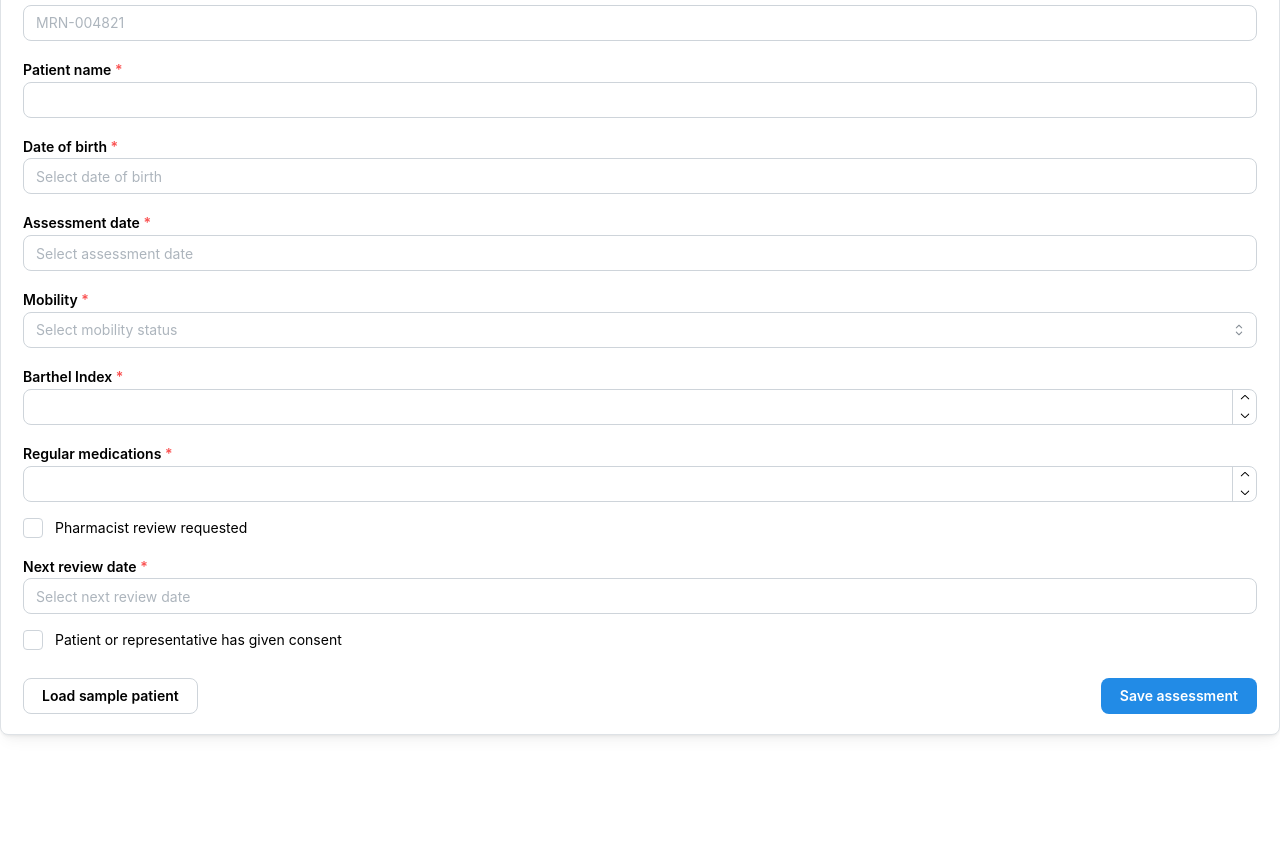
Test: AssessmentForm › saves the sample patient with the values Zod parsed
Click the button "Load sample patient" at (110, 696), box [23,678,198,714]
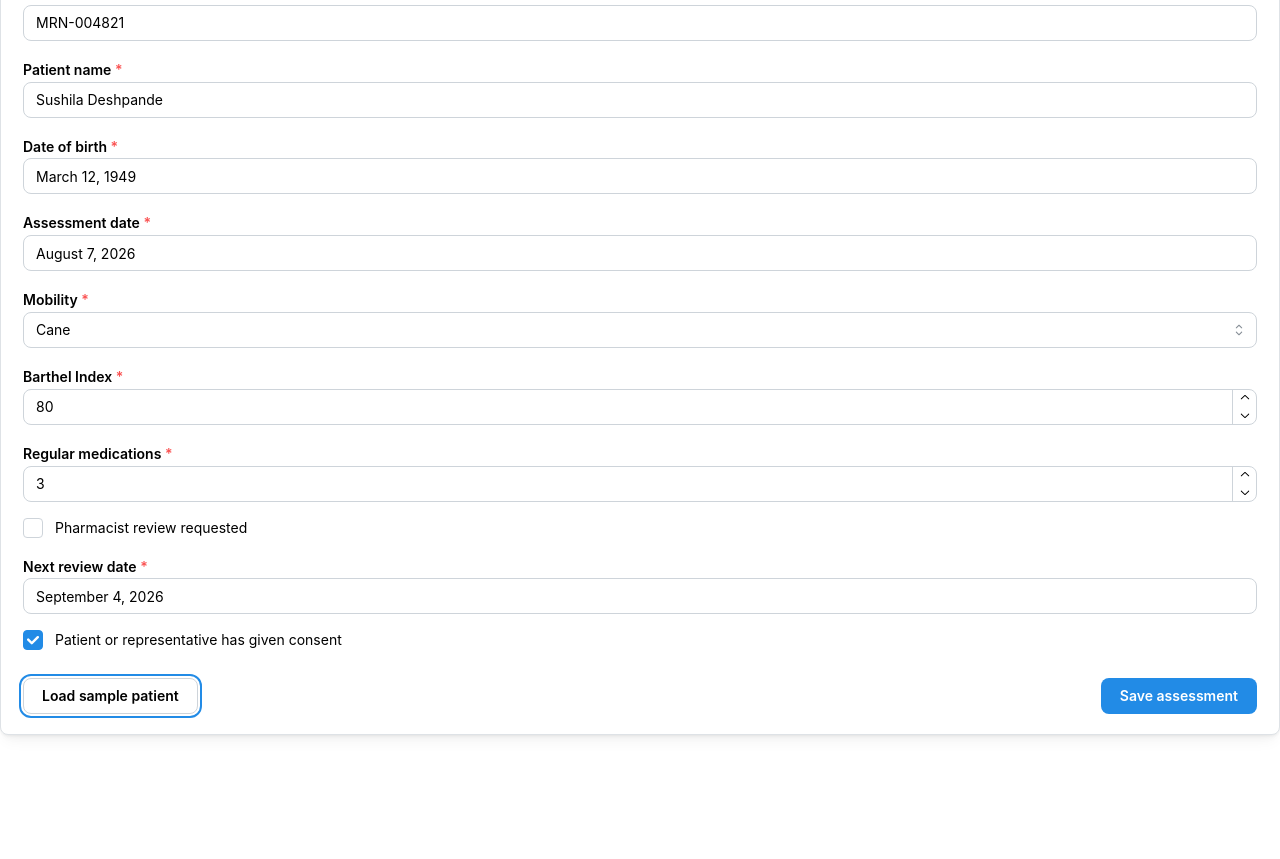
Click the button "Save assessment" at (1179, 696), box [1101,678,1257,714]
(page scrolled)
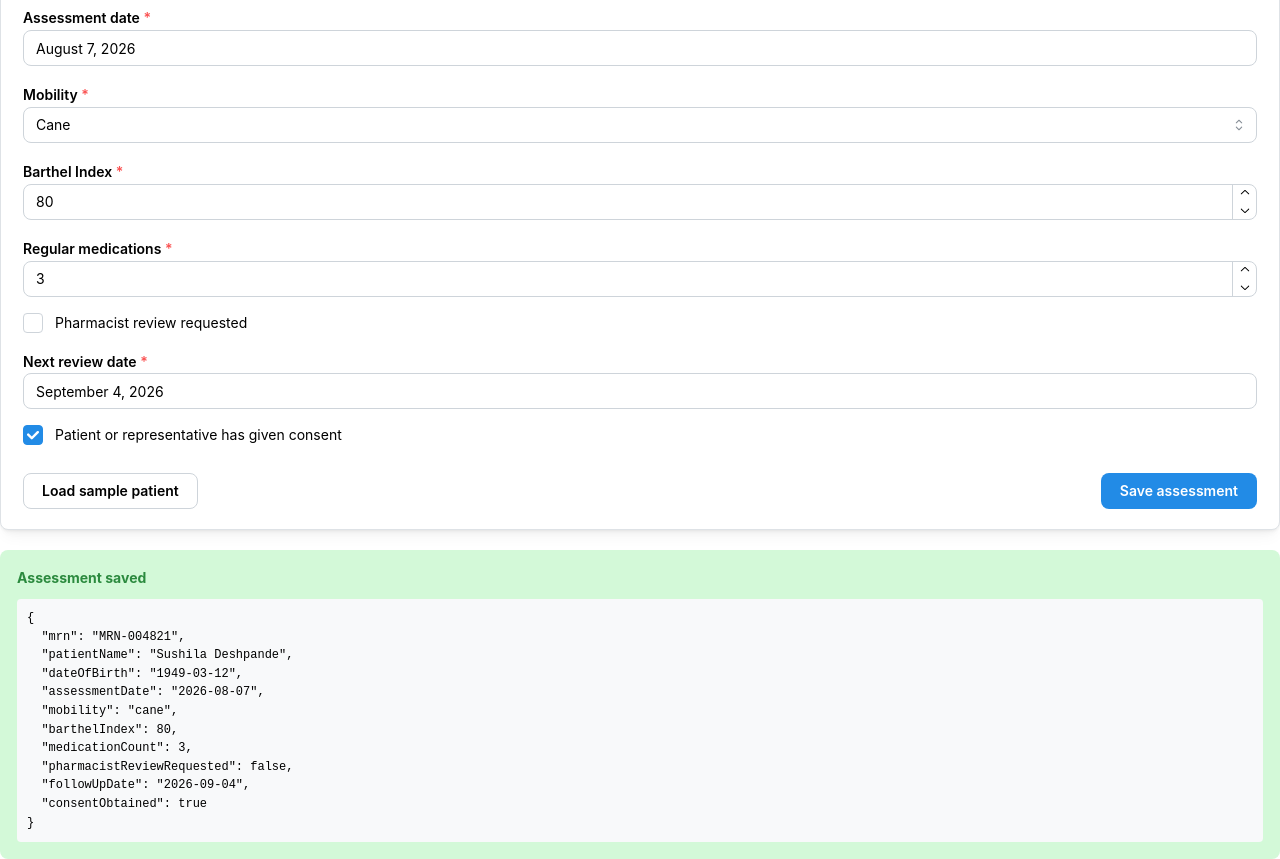
Check: the message shows "Assessment saved", box [17,569,146,586]
